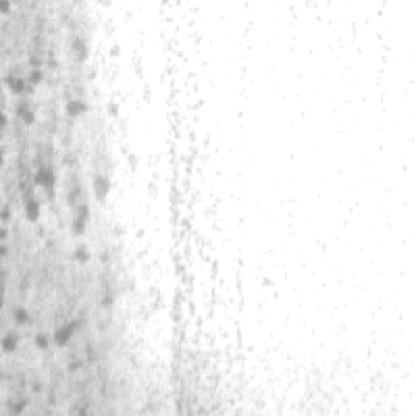pitted_surface: (0, 25, 110, 416), (160, 8, 246, 416), (254, 262, 408, 416)
